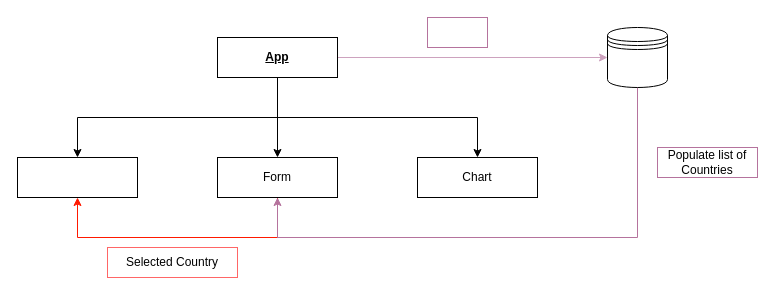
Some shapes in this 775 by 295 pixel diagram are drawn without their labels. The shapes that lost their labels are listed below. From the top down, each one's box as (x1, y1, x2, y2) in pixels, then its label:
(426, 16, 488, 48): Request for Data
(606, 26, 668, 88): Backend
(16, 156, 138, 198): Card
